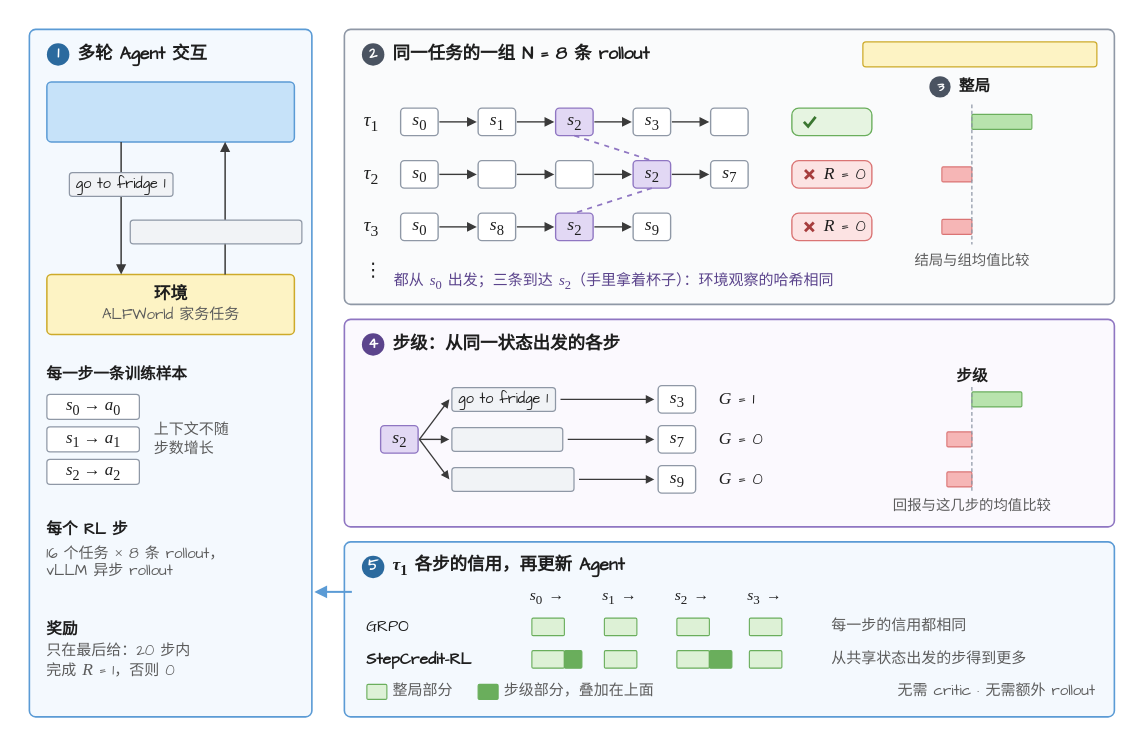
This 1143x745 diagram has some shape labels left out. Each missing label, with the centre of its shape:
"go to cabinet 1" goes at point 507,438.
"go to sinkbasin 1" goes at point 512,478.
"LLM Agent Qwen3-4B" goes at point 170,111.
"R = 1" goes at point 831,121.
"s 4" goes at point 728,121.
"s 5" goes at point 496,173.
"s 6" goes at point 573,173.
"“You arrive at fridge 1.”" goes at point 215,231.
"任务：“put a cool mug in cabinet”" goes at point 979,54.
